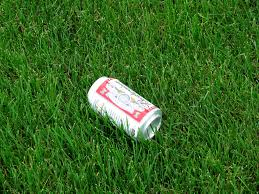can: (83, 76, 164, 144)
